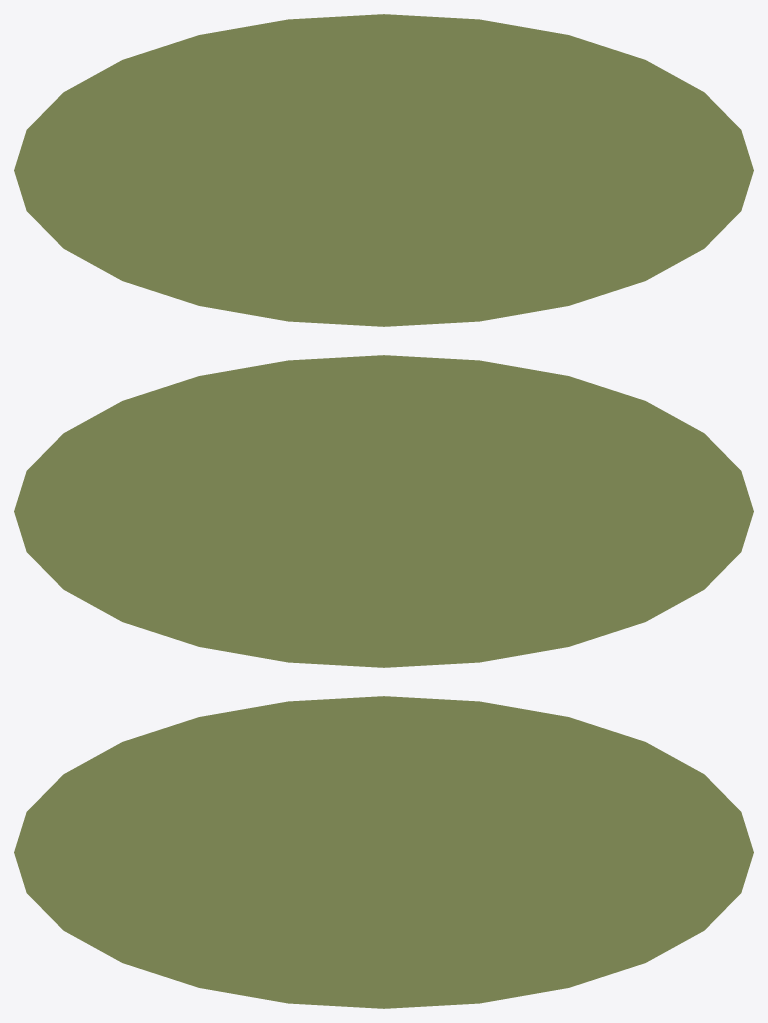
The model's file is CircleCollider.fbx.
3 renders of one model, top to bottom at view 1: azimuth 30°, elevation 25°; view 2: azimuth 150°, elevation 25°; view 3: azimuth 270°, elevation 25°, orthographic.
Visible parts, largest first — view 1: pDisc1; view 2: pDisc1; view 3: pDisc1.
Part boxes in pixels (x1,y1,x2,y2): pDisc1: (14, 14, 753, 326); pDisc1: (14, 355, 753, 667); pDisc1: (14, 696, 753, 1008).
Size of the model in its own units: 2 by 0 by 2.
